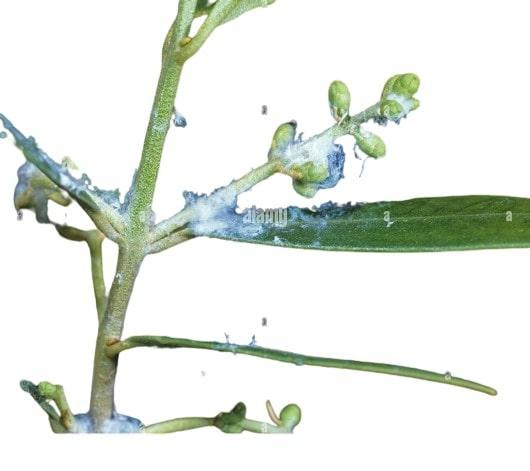Psyllid: (274, 66, 434, 177), (164, 177, 320, 244), (52, 410, 144, 434)
